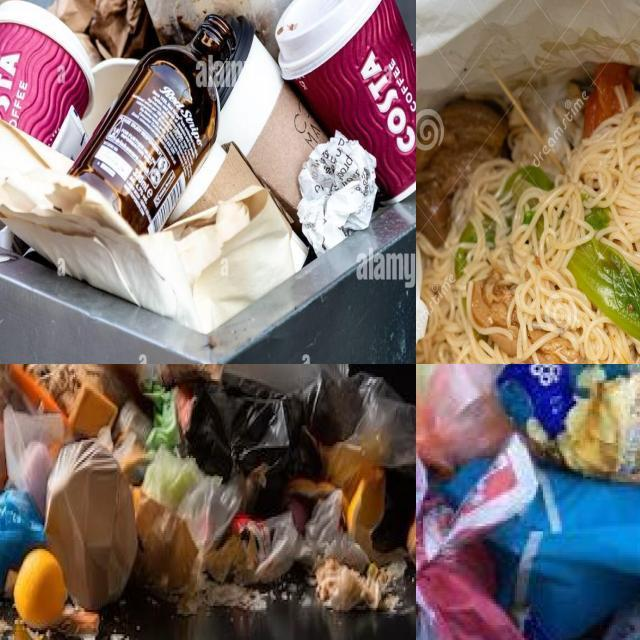Disposable: (275, 0, 416, 203), (0, 0, 94, 145)
Garbage: (0, 0, 416, 333), (0, 364, 416, 635), (416, 64, 640, 364), (416, 364, 640, 640)
Glass_bottle: (69, 13, 238, 233)
Plastic: (488, 469, 640, 640)
Plastic_Bag: (416, 435, 538, 640), (304, 373, 416, 551), (186, 373, 323, 516), (3, 406, 64, 516), (0, 487, 44, 594)
Plastic_wraper: (497, 364, 640, 481), (416, 364, 513, 469)
